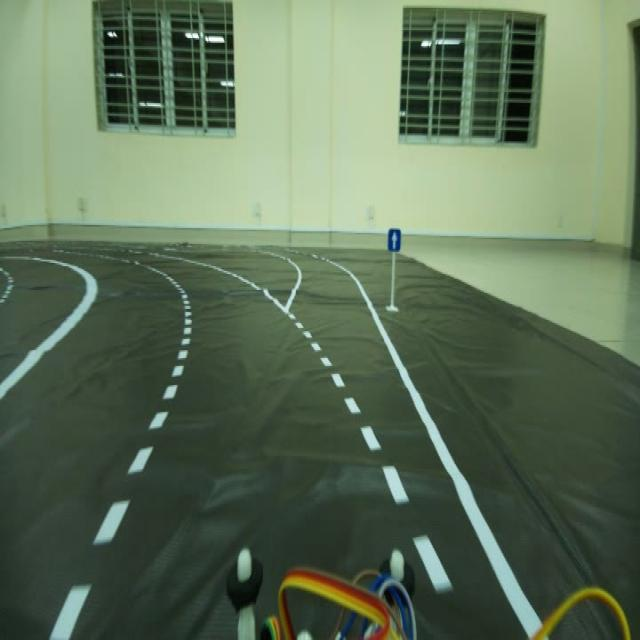onewayroad: (385, 218, 403, 257)
